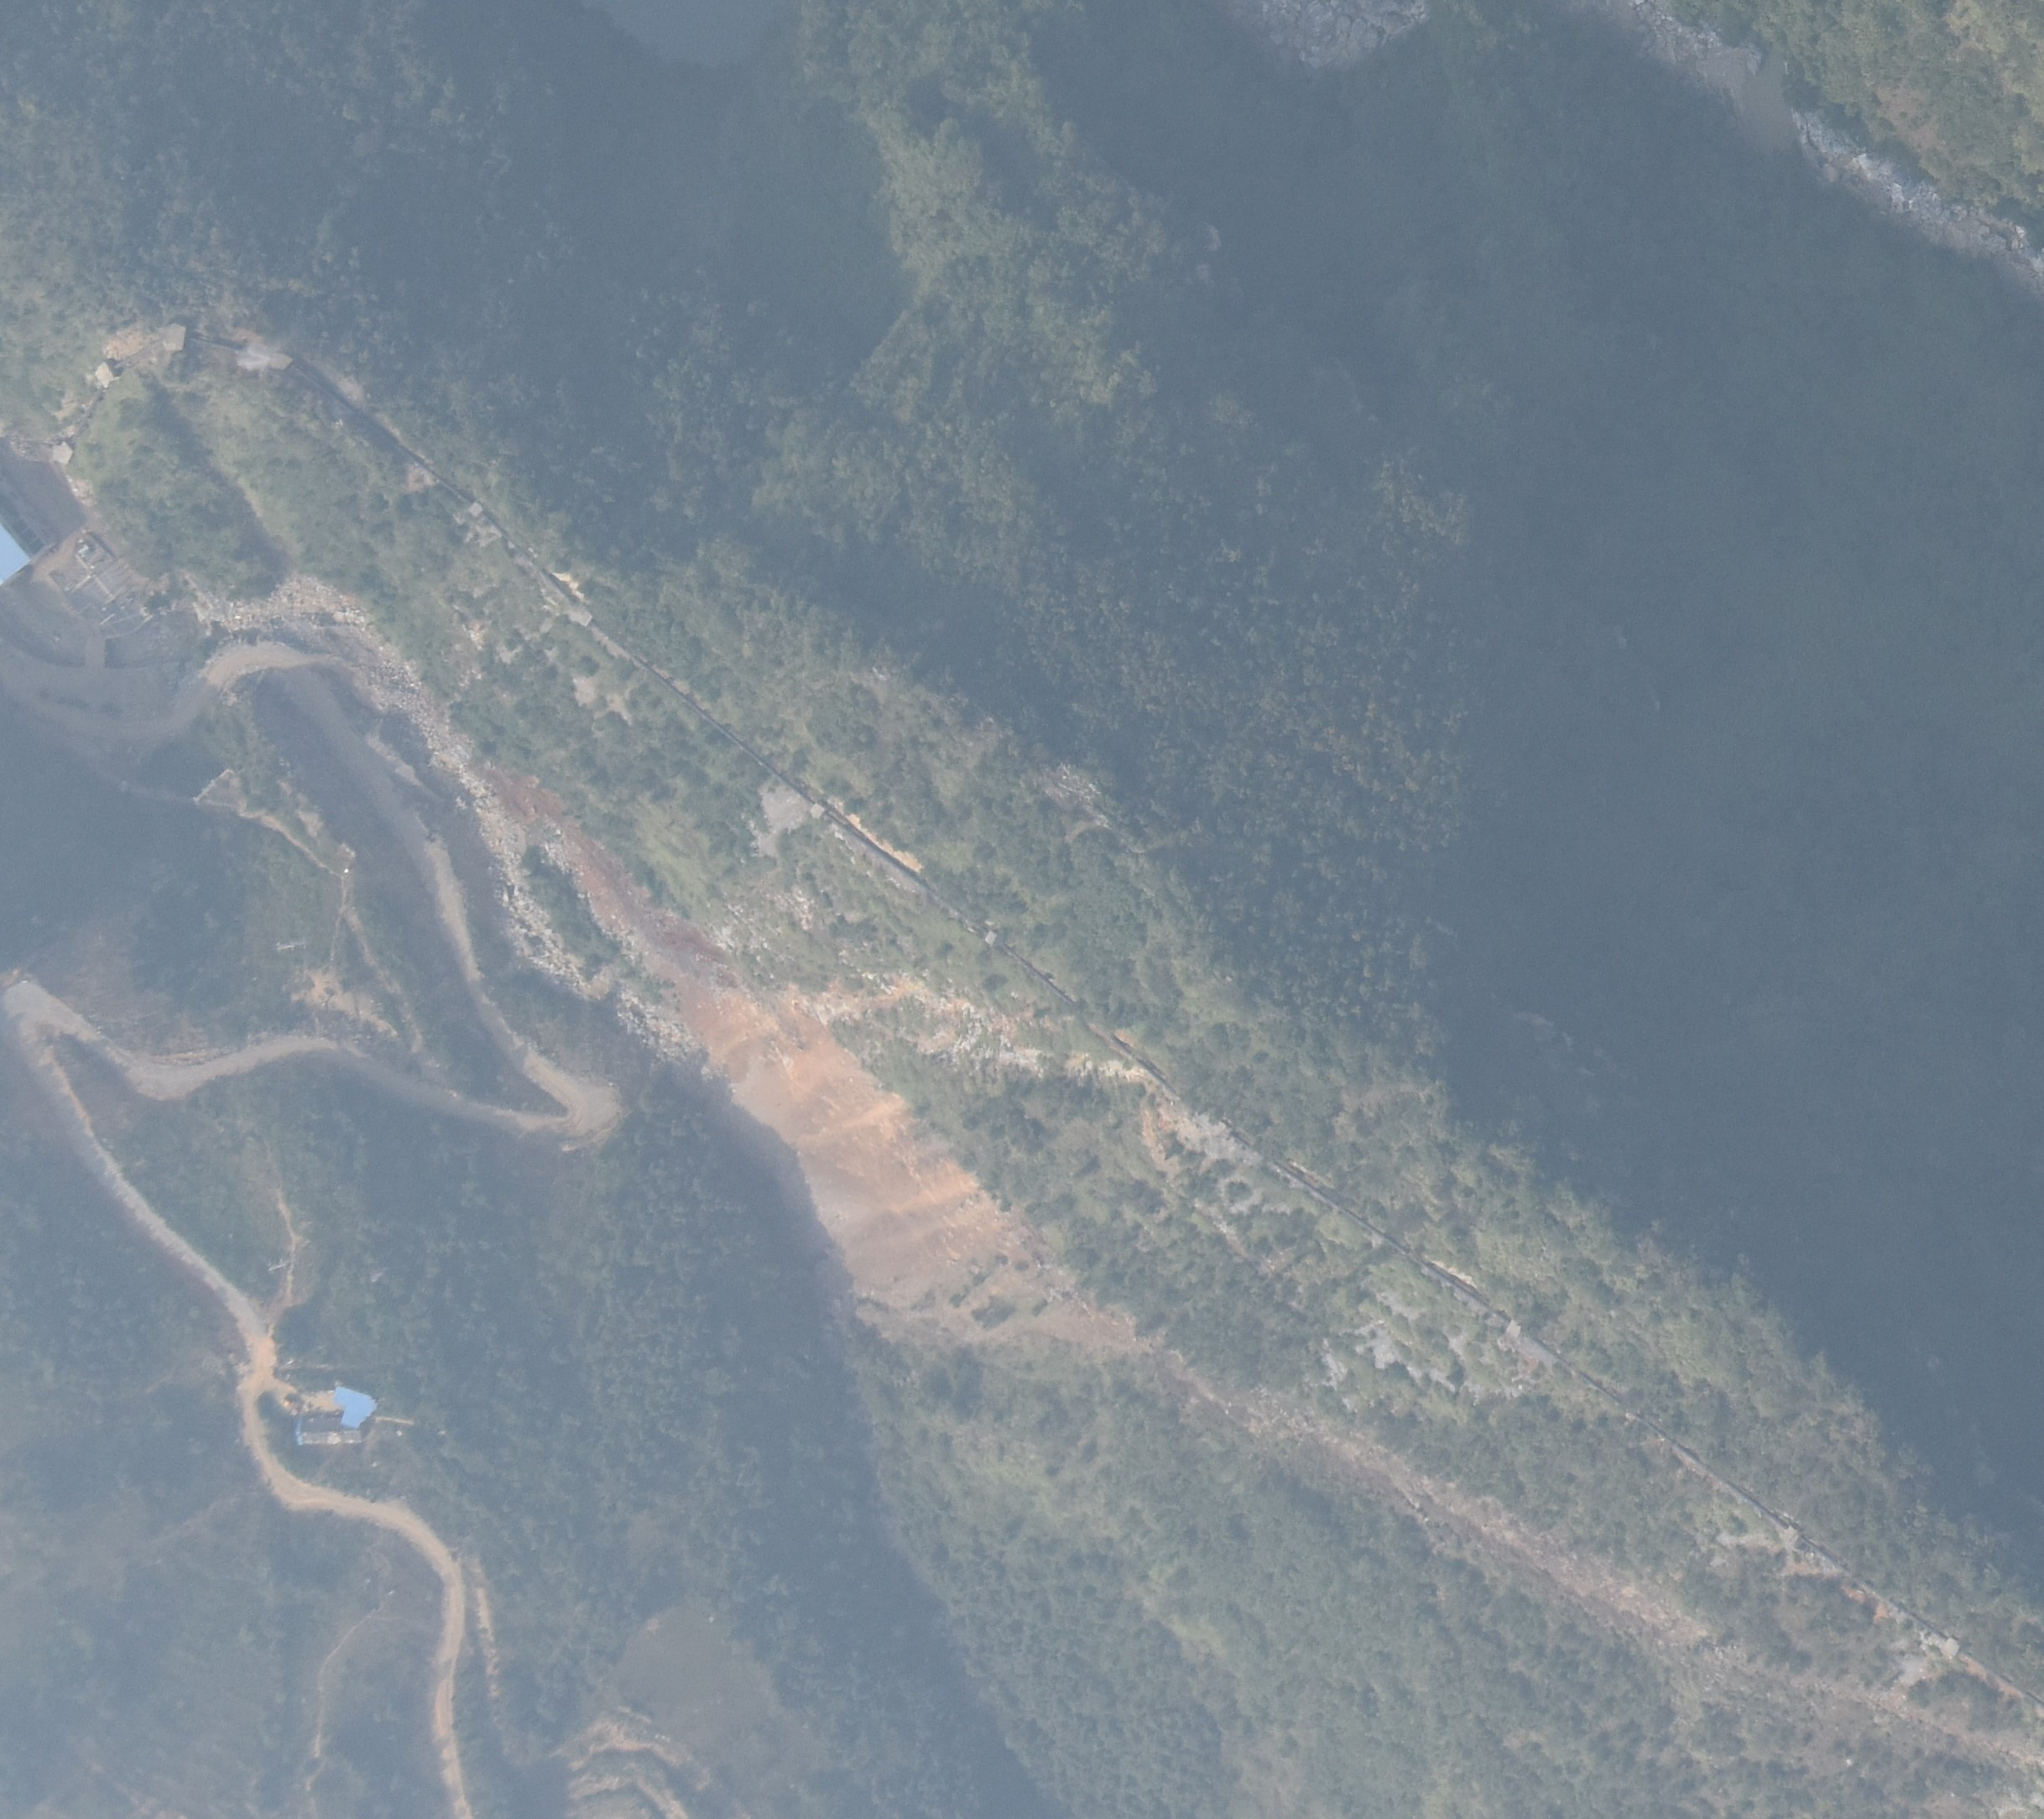prefabricated-house: (333, 1388, 379, 1428)
